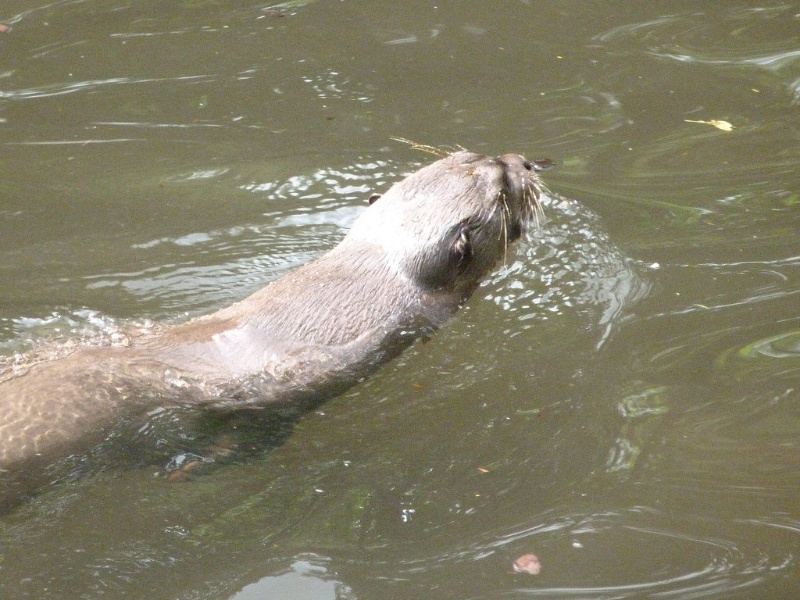minkish: (1, 131, 550, 535)
